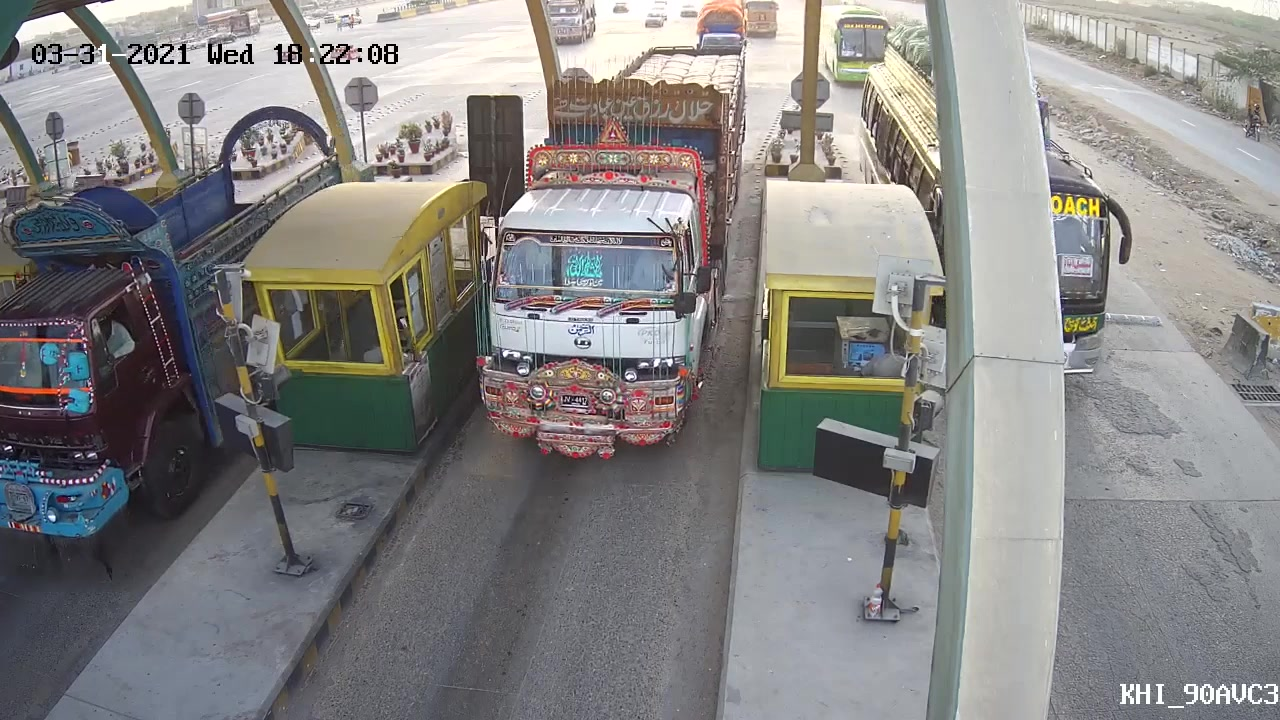F5: (454, 50, 755, 462)
